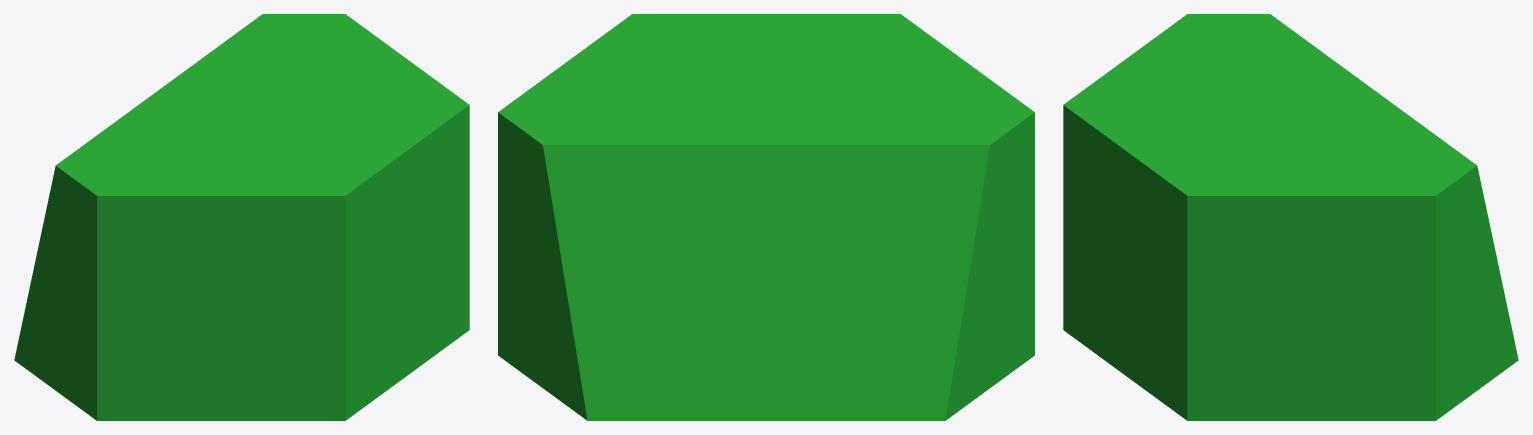
File: cliff-big_corner.glb
3 views of the same model, side by side, from view 1: azimuth 30°, elevation 25°; view 2: azimuth 150°, elevation 25°; view 3: azimuth 270°, elevation 25° (orthographic). The views are drawn at different scales.
Parts seen in each view (by area): view 1: cliff-big_corner; view 2: cliff-big_corner; view 3: cliff-big_corner.
Boxes of the visible parts, left/top/right/bottom form: cliff-big_corner: left=14, top=14, right=469, bottom=420; cliff-big_corner: left=498, top=14, right=1034, bottom=420; cliff-big_corner: left=1063, top=14, right=1518, bottom=420.
Bounding box in the file's own units: 0.866 × 0.5 × 0.9167.
